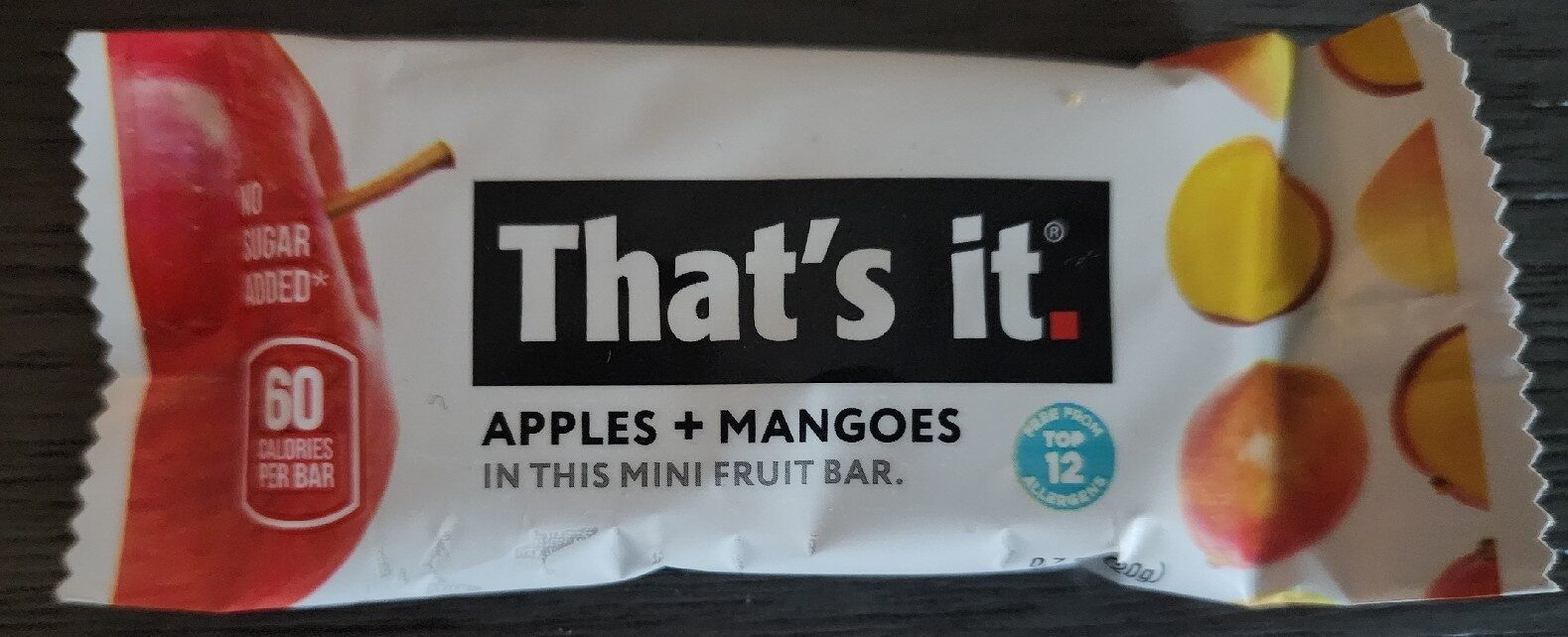APLES + MANGOES MINI FRUIT BAR: (78, 32, 1490, 605)
